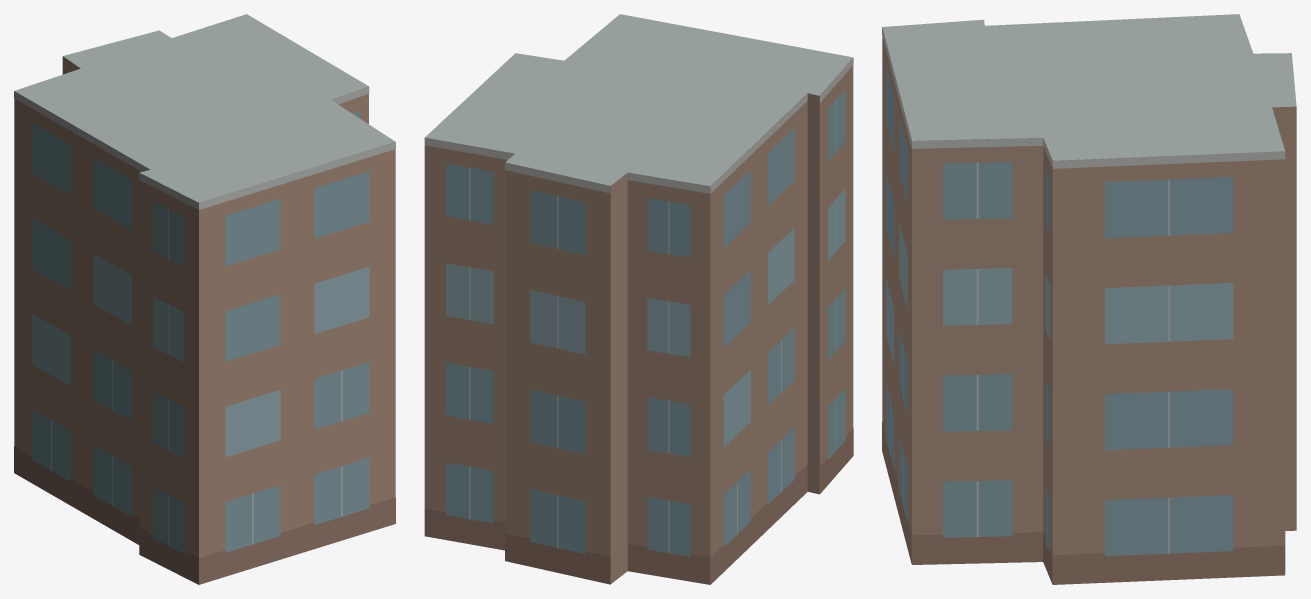
Rendered from survey-upis-32610743.glb.
3 views of the same model, side by side, from view 1: azimuth 30°, elevation 25°; view 2: azimuth 150°, elevation 25°; view 3: azimuth 270°, elevation 25° (orthographic). The views are drawn at different scales.
Parts seen in each view (by area): view 1: survey-upis-32610743.tmp; view 2: survey-upis-32610743.tmp; view 3: survey-upis-32610743.tmp.
Boxes of the visible parts, x1=… form: survey-upis-32610743.tmp: x1=14, y1=14, x2=395, y2=584; survey-upis-32610743.tmp: x1=424, y1=14, x2=853, y2=584; survey-upis-32610743.tmp: x1=882, y1=14, x2=1296, y2=584.
Bounding box in the file's own units: 9.51 × 12.8 × 11.34.
